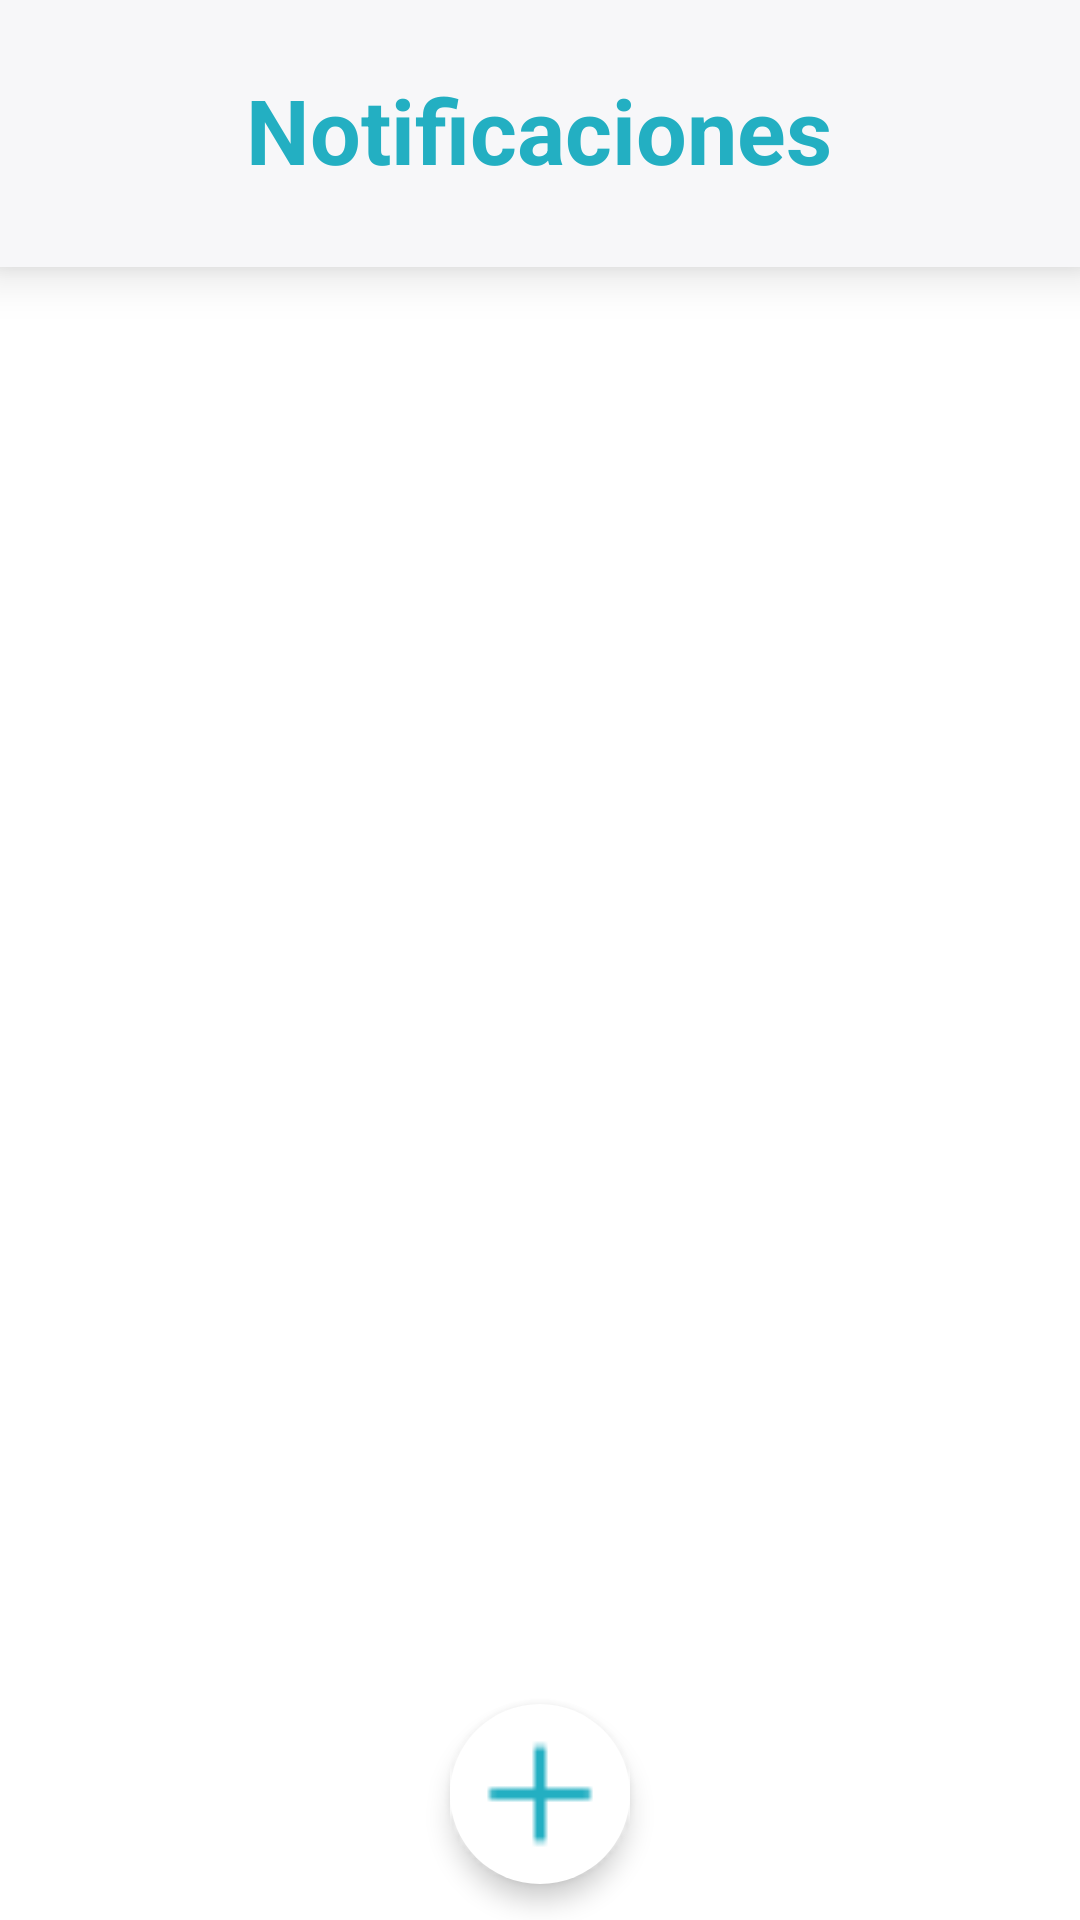

Named icons in this screenshot (1080x1920) and their bounding boxes, region(x1, y1, x2, y2):
crear: region(457, 1742, 593, 1846)
